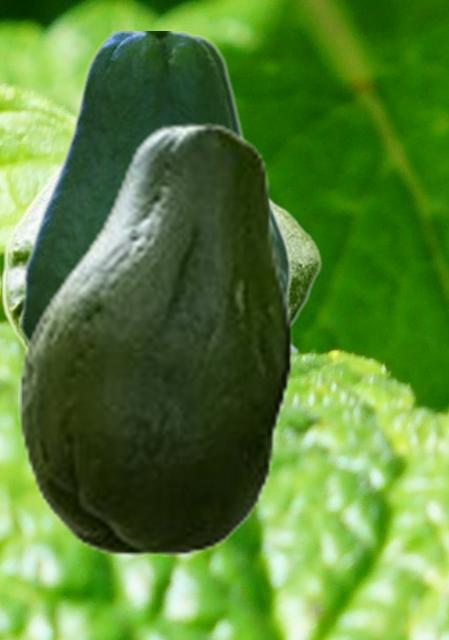sayote: (18, 122, 292, 555), (19, 31, 299, 420), (0, 161, 321, 352)
